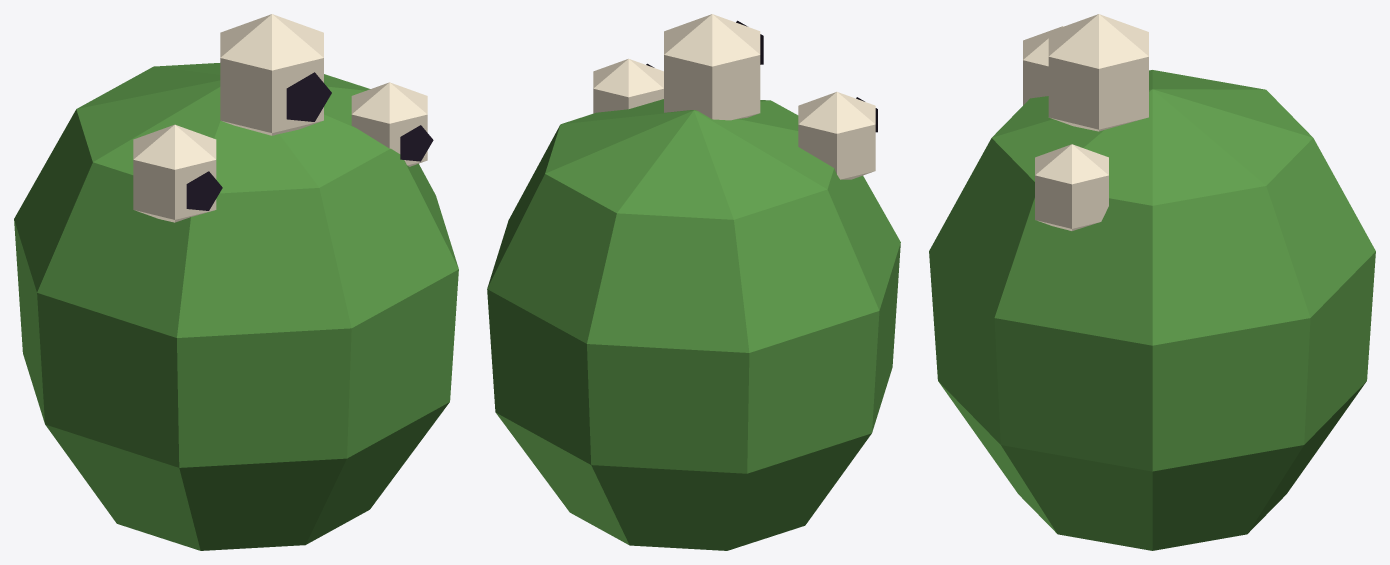
The model's file is Veg_Cactus_B.fbx.
3 renders of one model, left to right at view 1: azimuth 30°, elevation 25°; view 2: azimuth 150°, elevation 25°; view 3: azimuth 270°, elevation 25°, orthographic. The views are drawn at different scales.
Visible parts, largest first — view 1: Veg_Cactus_B; view 2: Veg_Cactus_B; view 3: Veg_Cactus_B.
Boxes of the visible parts, bbox=[...] form: Veg_Cactus_B: bbox=[14, 14, 458, 550]; Veg_Cactus_B: bbox=[487, 14, 900, 550]; Veg_Cactus_B: bbox=[929, 14, 1375, 550].
Bounding box in the file's own units: 1 × 1.2 × 1.
